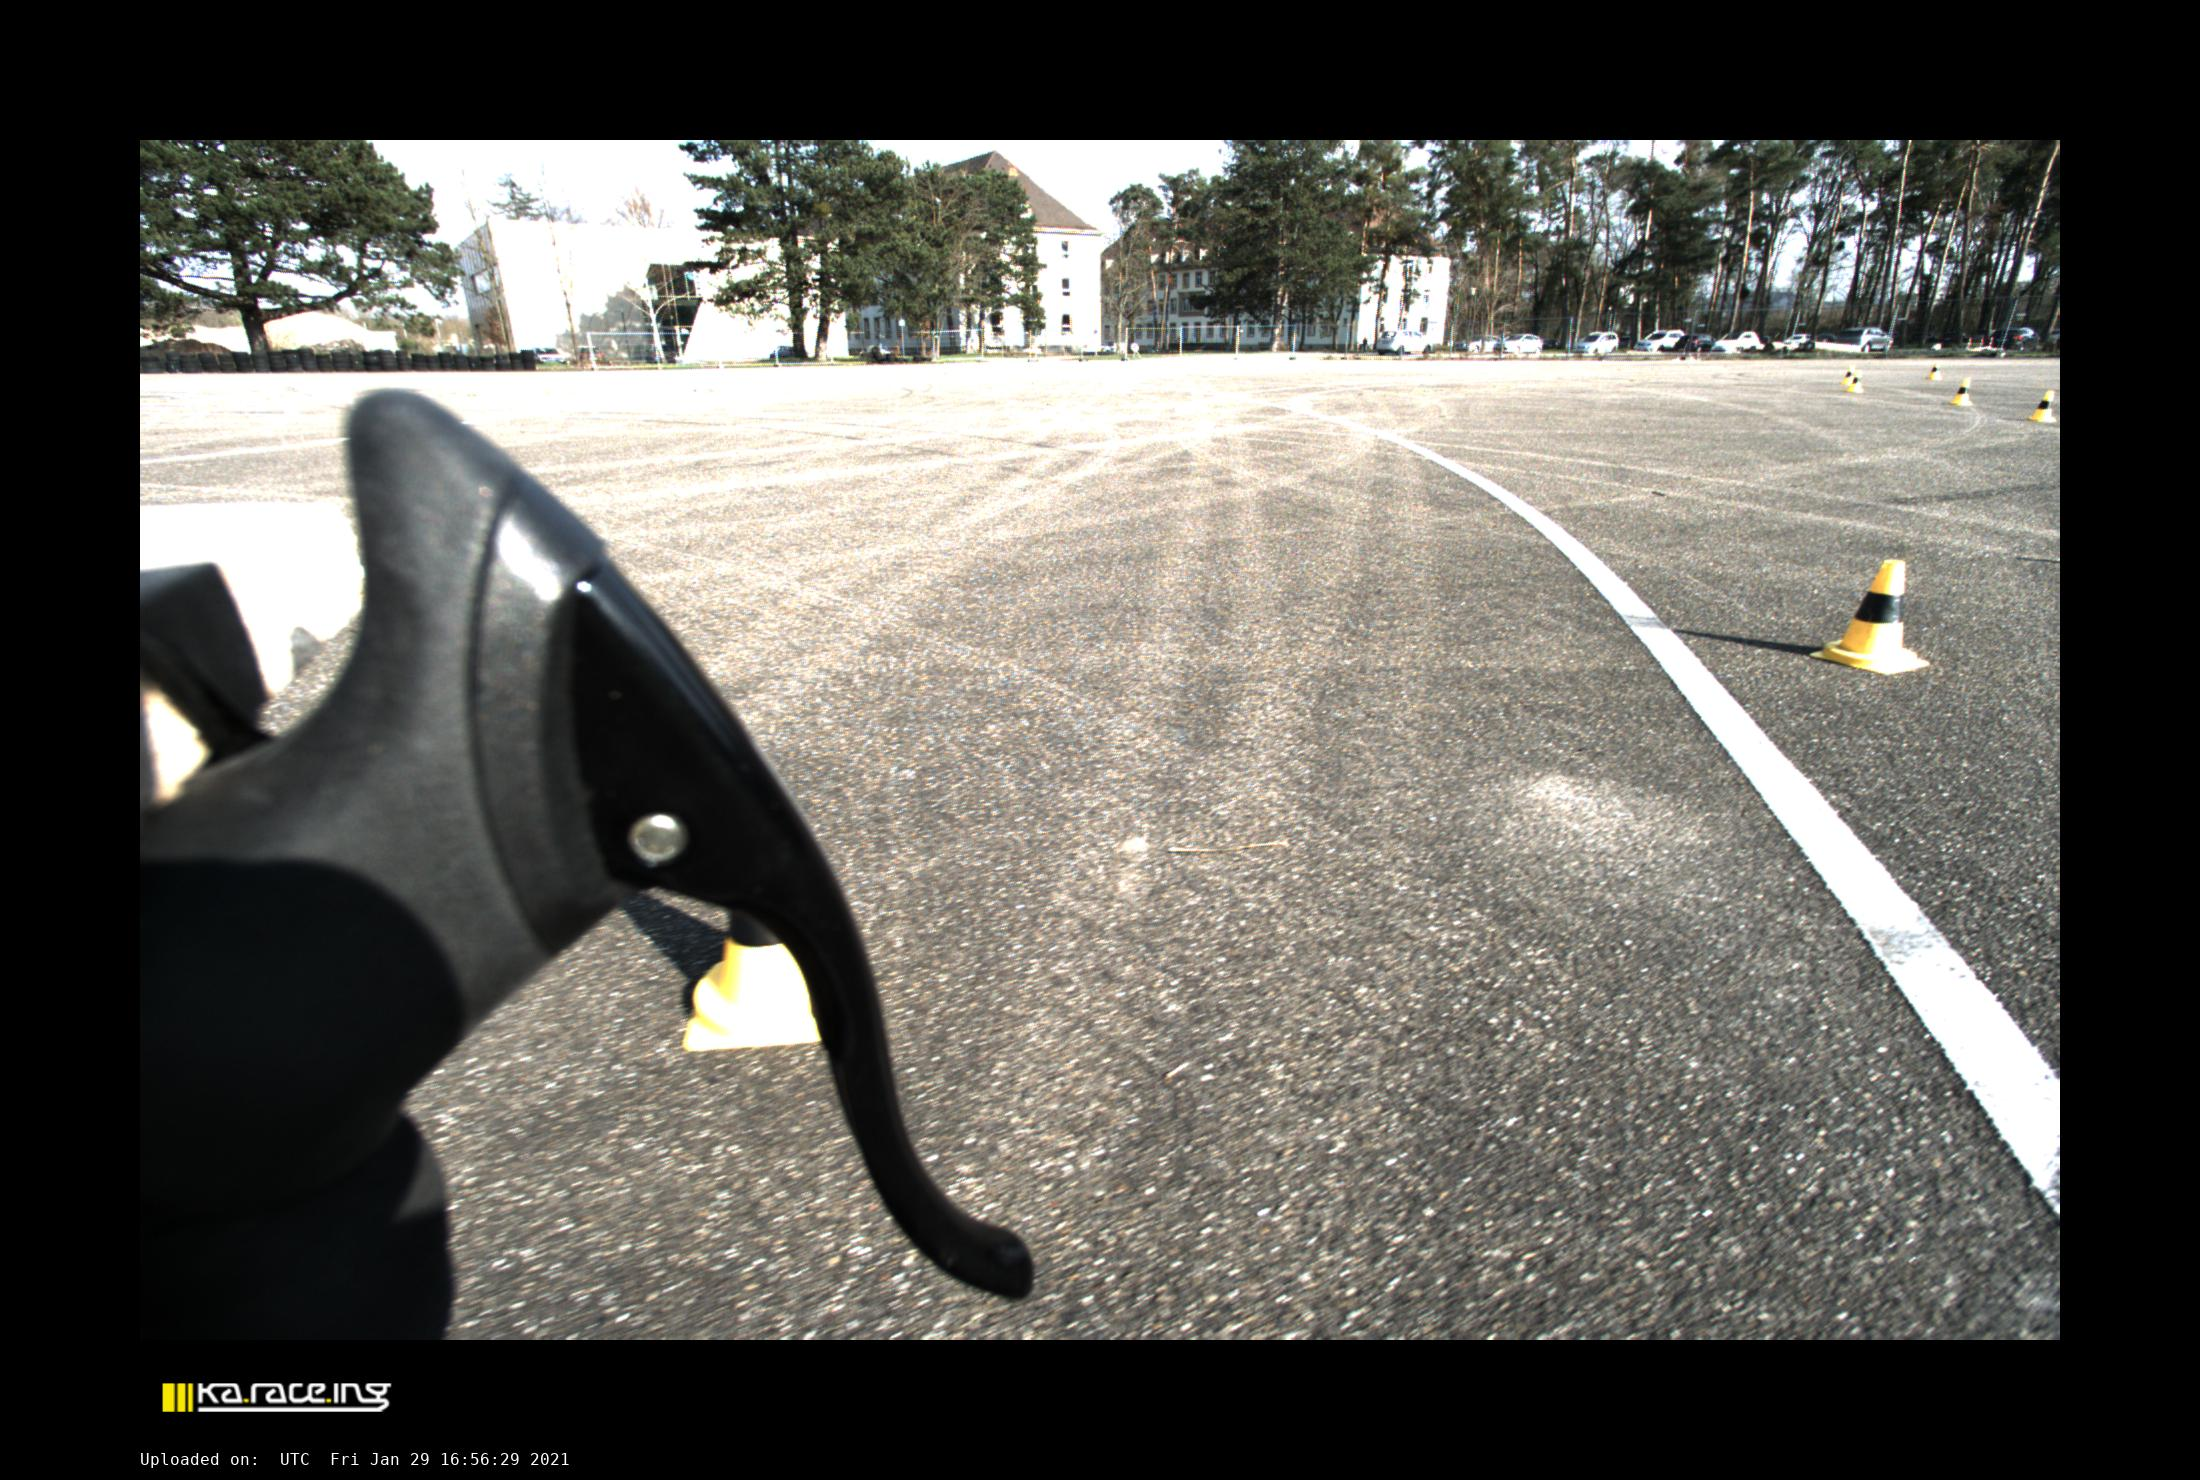yellow_cone: (684, 908, 826, 1052), (1810, 560, 1931, 676), (2028, 390, 2056, 421), (1947, 378, 1974, 405), (1847, 372, 1865, 393), (1840, 365, 1853, 385), (1927, 362, 1942, 378)
